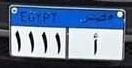1: (14, 30, 25, 53), (27, 29, 36, 54), (53, 32, 62, 56), (41, 31, 49, 54)
alif: (91, 31, 100, 56)
